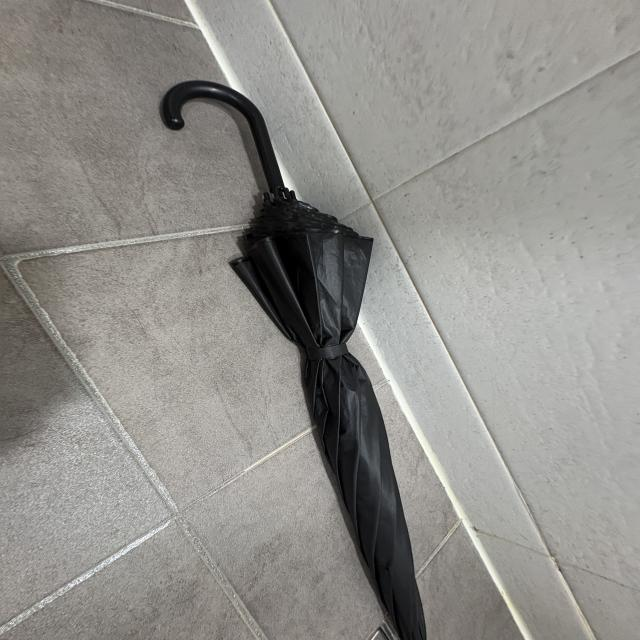umbrella: (159, 78, 428, 640)
